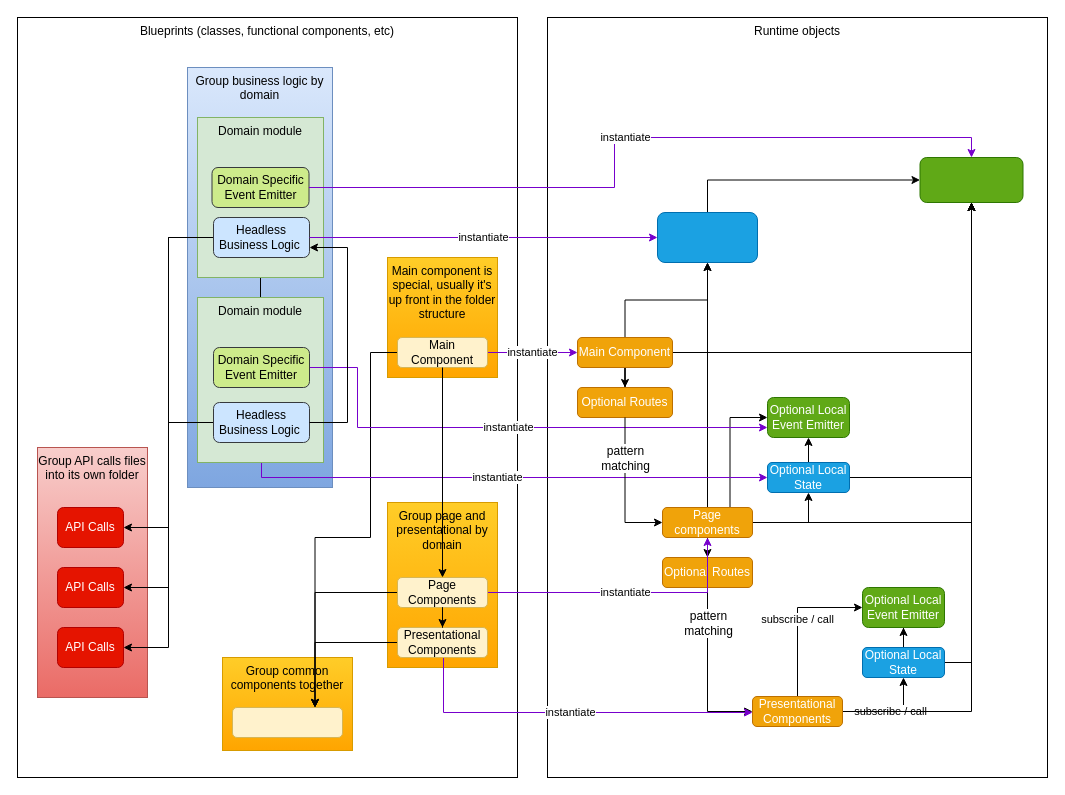
Image size: 1065x795. Some labels were removed from this diagram. The centre of each missing label's shape, as x and y in pixels:
Common Components: (x=287, y=722)
Global Application State: (x=707, y=237)
Global Event Emitter: (x=971, y=179)
